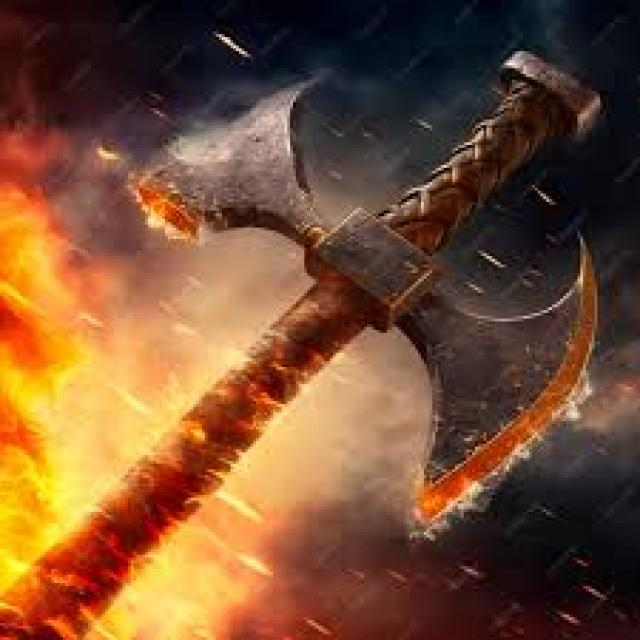Gun: (96, 27, 640, 640)
